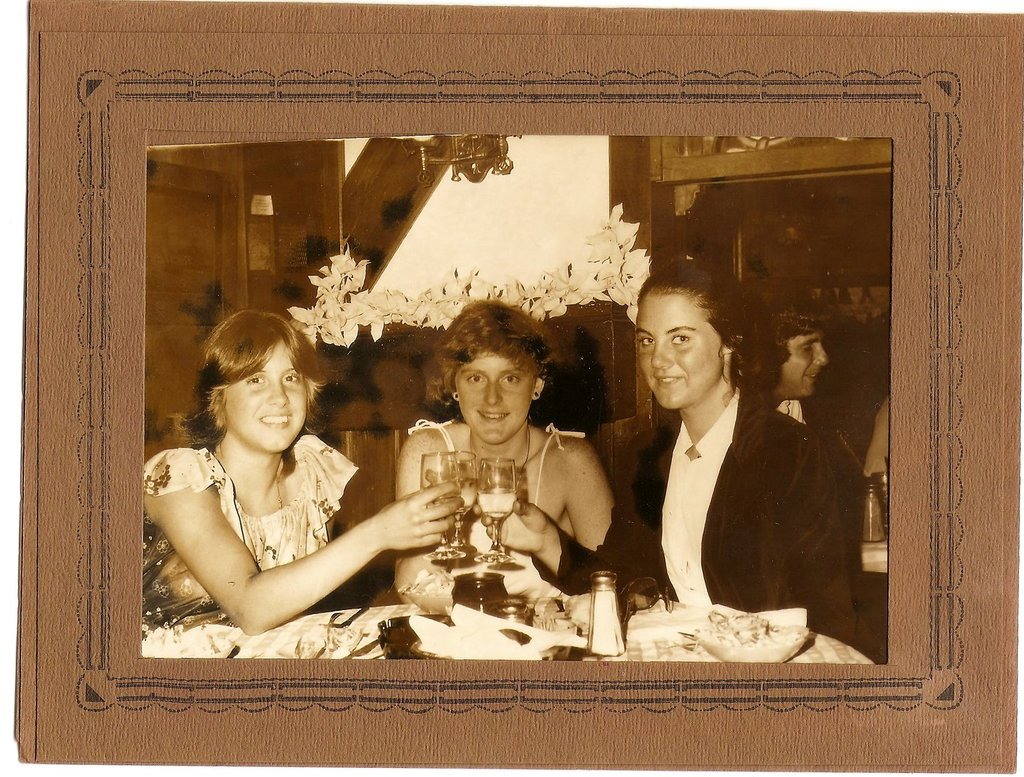Human-face: (636, 295, 721, 411), (225, 337, 308, 454), (455, 351, 537, 442), (778, 328, 826, 397)
